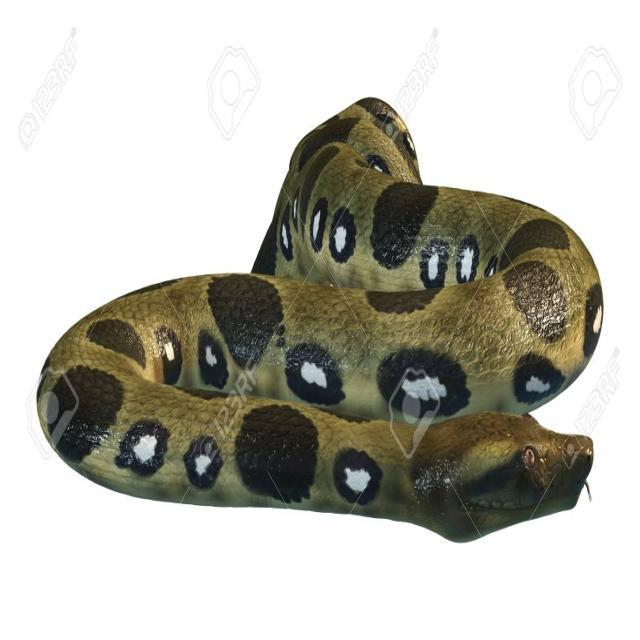Snake: (19, 80, 614, 562)
